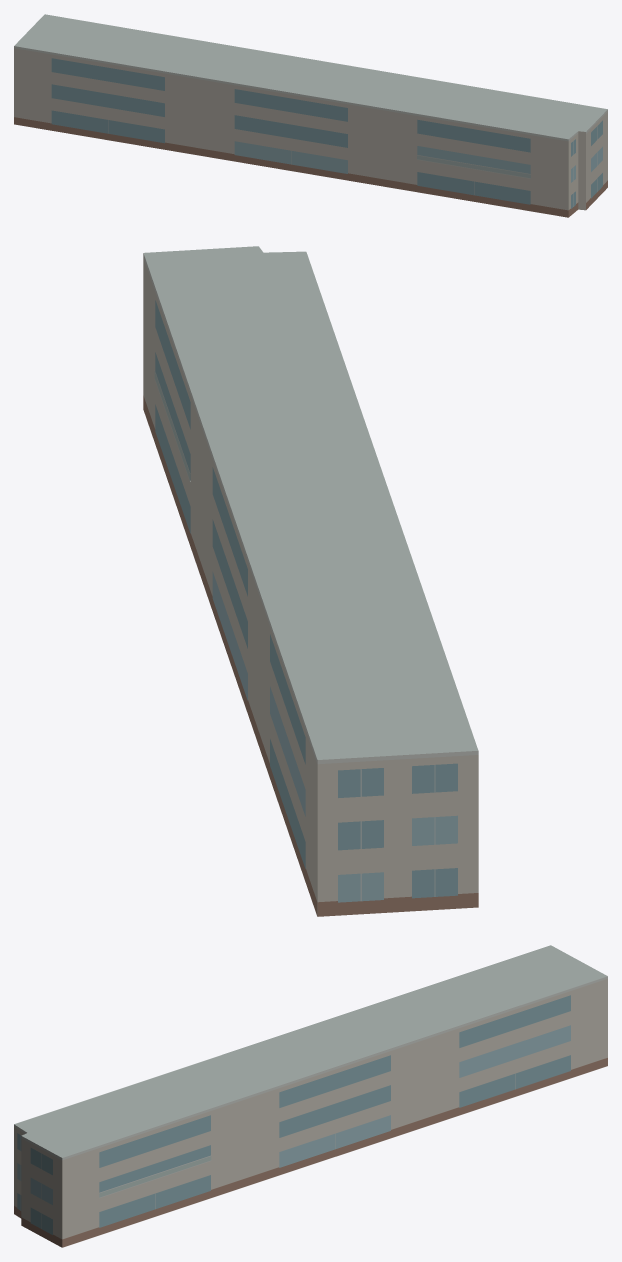
File: survey-upis-32704310.glb
3 renders of one model, top to bottom at view 1: azimuth 30°, elevation 25°; view 2: azimuth 150°, elevation 25°; view 3: azimuth 270°, elevation 25°, orthographic. The views are drawn at different scales.
Parts seen in each view (by area): view 1: survey-upis-32704310.tmp; view 2: survey-upis-32704310.tmp; view 3: survey-upis-32704310.tmp.
Boxes of the visible parts, box(x1,y1,x2,y2) form: survey-upis-32704310.tmp: box(14, 14, 607, 217); survey-upis-32704310.tmp: box(143, 246, 478, 916); survey-upis-32704310.tmp: box(14, 945, 607, 1247).
Size of the model in its own units: 46.54 by 9.15 by 54.87.
